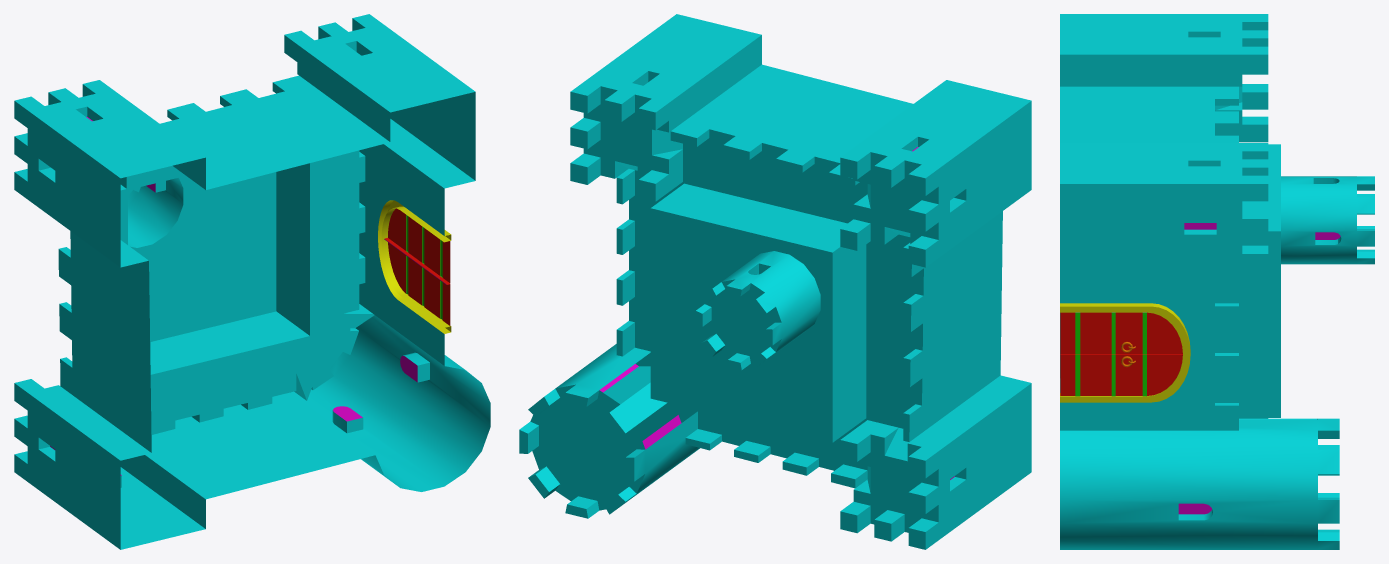
The model's file is Medieval_Castle_full.fbx.
3 views of the same model, side by side, from view 1: azimuth 30°, elevation 25°; view 2: azimuth 150°, elevation 25°; view 3: azimuth 270°, elevation 25° (orthographic).
Visible parts, largest first — view 1: Cube.012; view 2: Cube.012; view 3: Cube.012.
Boxes of the visible parts, box(x1,y1,x2,y2) form: Cube.012: box(14, 14, 490, 549); Cube.012: box(519, 14, 1031, 549); Cube.012: box(1060, 14, 1374, 549).
Size of the model in its own units: 1371 by 1371 by 1030.
